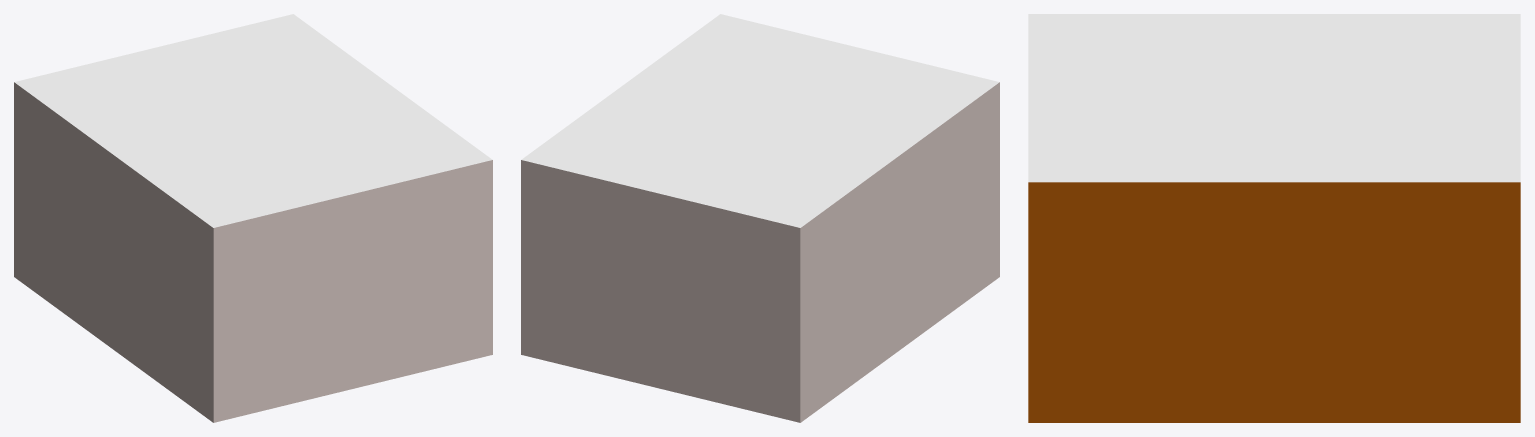
File: Walls.fbx
3 renders of one model, left to right at view 1: azimuth 30°, elevation 25°; view 2: azimuth 150°, elevation 25°; view 3: azimuth 270°, elevation 25°, orthographic. The views are drawn at different scales.
Visible parts, largest first — view 1: pCube33; view 2: pCube33; view 3: pCube33.
Part boxes in pixels (left/top/right/bottom): pCube33: left=14, top=14, right=492, bottom=422; pCube33: left=521, top=14, right=999, bottom=422; pCube33: left=1028, top=14, right=1520, bottom=422.
Size of the model in its own units: 18 by 12 by 22.25.
